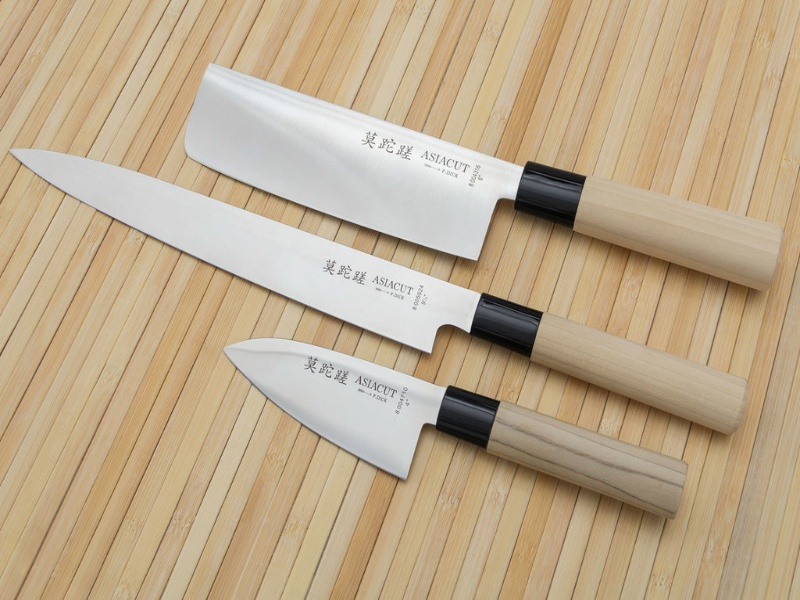knife: (2, 140, 754, 441), (178, 61, 789, 310), (219, 336, 698, 528)
